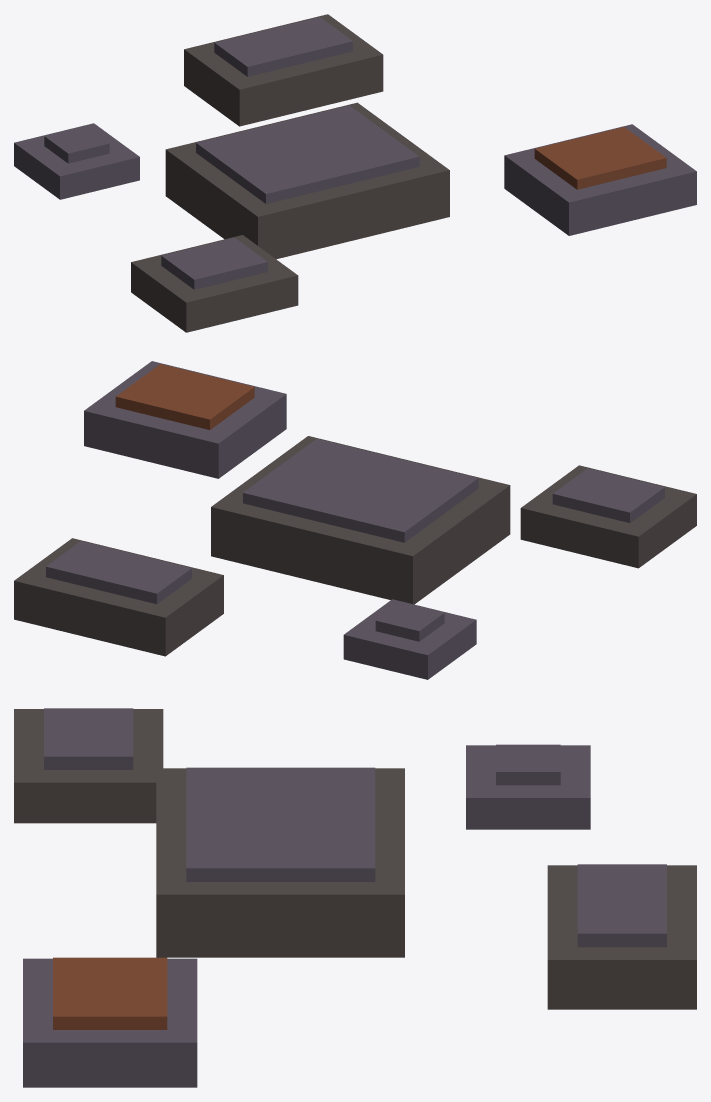
File: BasaltFlatStones.glb
3 views of the same model, one above another, from view 1: azimuth 30°, elevation 25°; view 2: azimuth 150°, elevation 25°; view 3: azimuth 270°, elevation 25° (orthographic). The views are drawn at different scales.
Visible parts, largest first — view 1: BasaltFlatStones; view 2: BasaltFlatStones; view 3: BasaltFlatStones.
Boxes of the visible parts, x1,y1,x2,y2 form: BasaltFlatStones: [14, 14, 696, 332]; BasaltFlatStones: [14, 361, 696, 679]; BasaltFlatStones: [14, 708, 696, 1087].
Size of the model in its own units: 16.08 by 1.7 by 13.73.
1 material, 1 textured.
